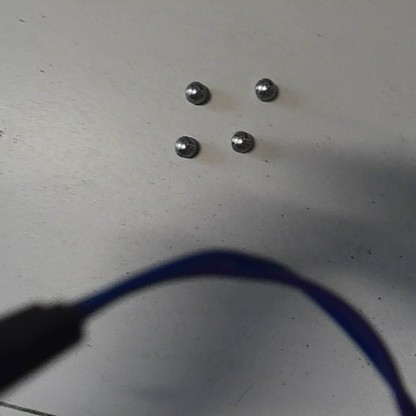ironball: (254, 76, 276, 101), (186, 81, 208, 104), (230, 129, 252, 151), (174, 134, 195, 156)
